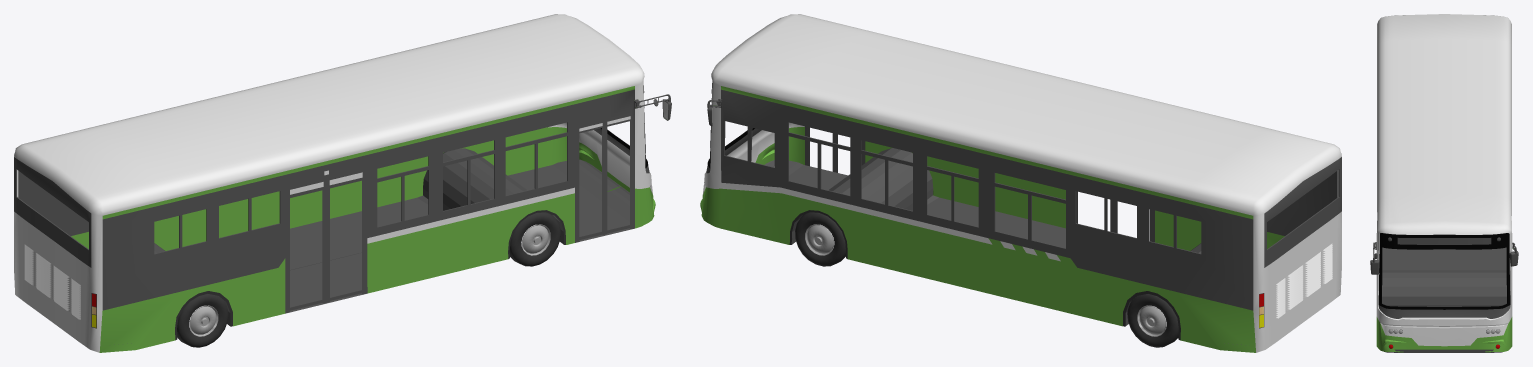
The model's file is gongjiaoche.fbx.
3 views of the same model, side by side, from view 1: azimuth 30°, elevation 25°; view 2: azimuth 150°, elevation 25°; view 3: azimuth 270°, elevation 25° (orthographic). The views are drawn at different scales.
Visible parts, largest first — view 1: gongjiaoche001; view 2: gongjiaoche001; view 3: gongjiaoche001.
Boxes of the visible parts, <box> form: gongjiaoche001: <box>14,14,671,352</box>; gongjiaoche001: <box>700,14,1341,352</box>; gongjiaoche001: <box>1370,14,1518,352</box>.
Size of the model in its own units: 10.92 by 3.15 by 3.08.
1 material, 1 textured.
